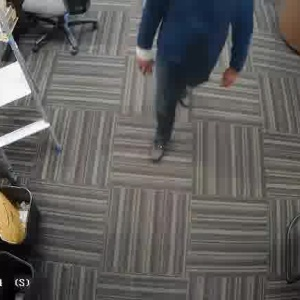person: (145, 0, 249, 166)
